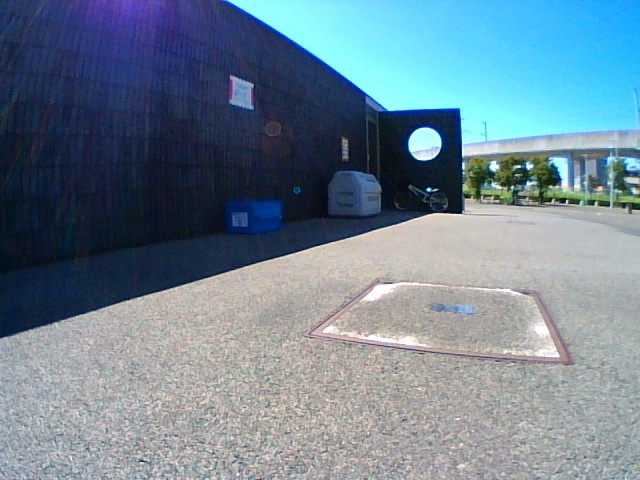blue_box: (226, 201, 281, 231)
tag: (232, 213, 247, 226)
